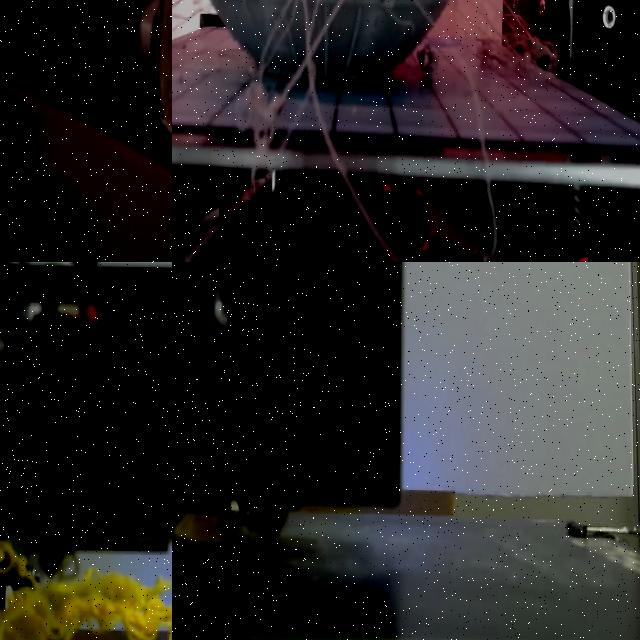spaghetti: (172, 0, 573, 262), (0, 542, 172, 640), (173, 506, 286, 555)
